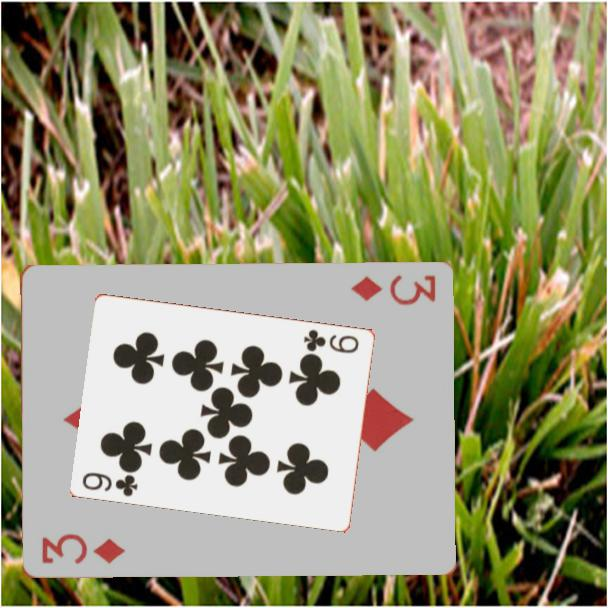c09: (300, 325, 362, 356), (79, 469, 141, 499)
d03: (347, 272, 438, 309), (37, 532, 127, 568)
